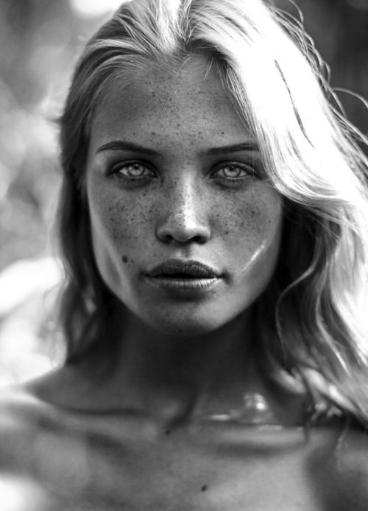left_eye: (208, 161, 260, 188)
left_lip_corner: (216, 269, 235, 291)
right_eye: (109, 159, 161, 187)
right_lip_corner: (139, 266, 156, 289)
